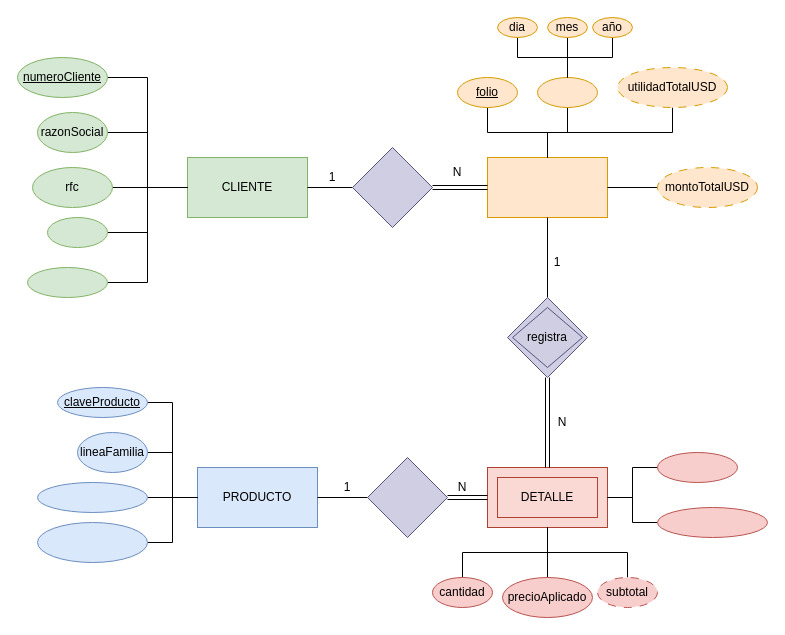
Some shapes in this 785 by 635 pixel diagram are drawn without their labels. The shapes that lost their labels are listed below. From the top down, each one's centre as x and y in pixels, then its label:
At pixel 567 92: "fecha".
At pixel 392 187: "realiza".
At pixel 547 187: "PEDIDO".
At pixel 77 232: "telefono".
At pixel 67 282: "correoCliente".
At pixel 697 467: "claveParcial".
At pixel 92 497: "costoUnitarioUSD".
At pixel 407 497: "aparece".
At pixel 92 542: "precioUnitarioUSD".
At pixel 712 522: "costoProduccion".
